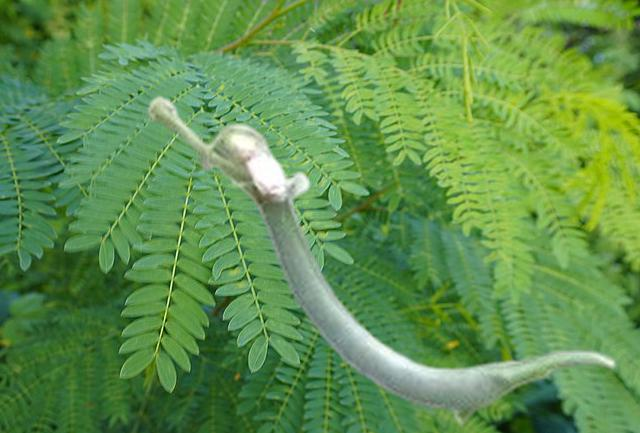french_bean: (146, 94, 616, 425)
